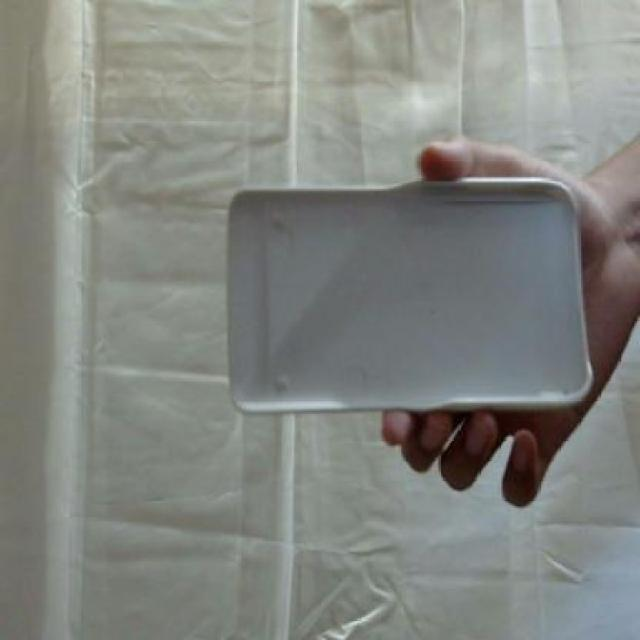Plastic: (225, 177, 592, 414)
